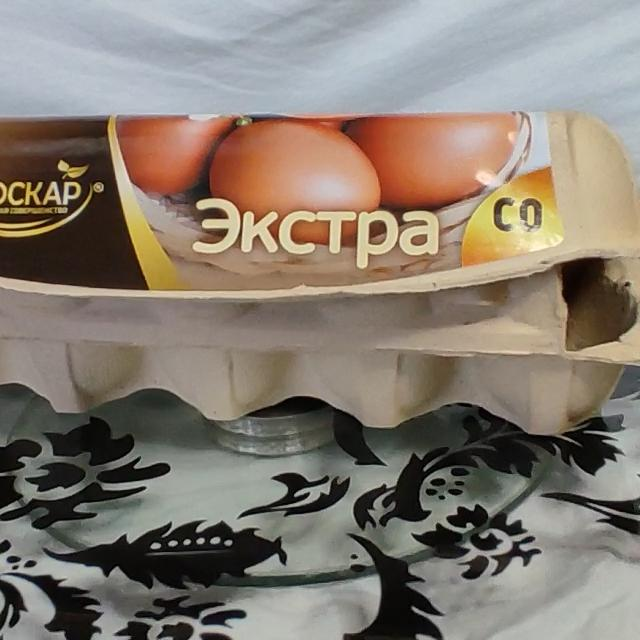egg: (0, 86, 624, 455)
